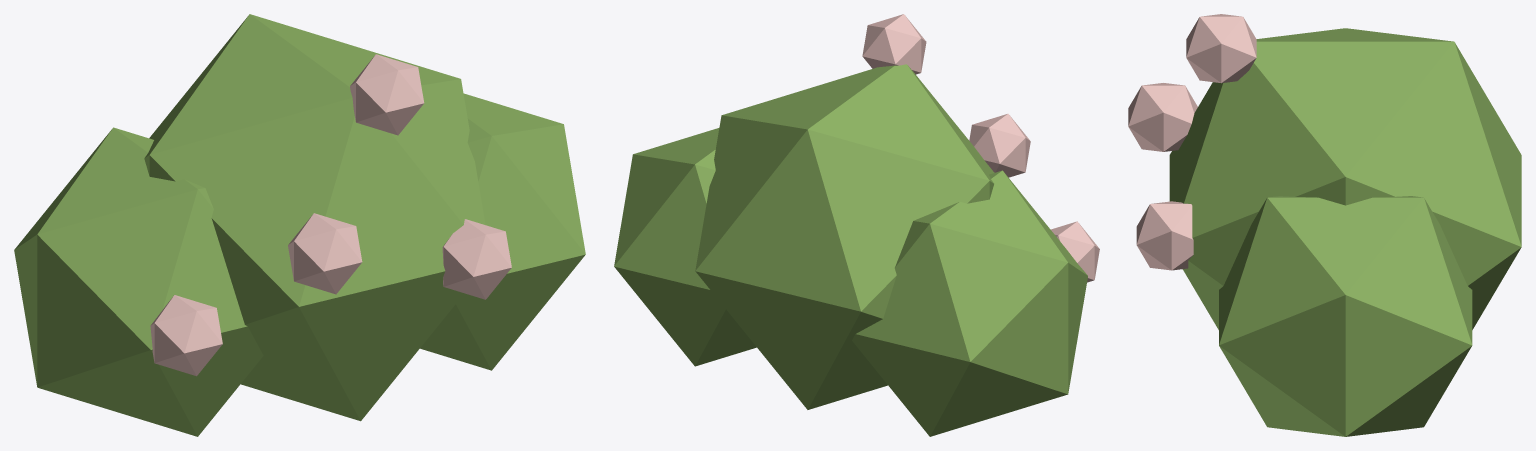
Rendered from bush.glb.
3 renders of one model, left to right at view 1: azimuth 30°, elevation 25°; view 2: azimuth 150°, elevation 25°; view 3: azimuth 270°, elevation 25°, orthographic. The views are drawn at different scales.
Visible parts, largest first — view 1: B0; view 2: B0; view 3: B0.
Part boxes in pixels (left/top/right/bottom): B0: left=14, top=14, right=585, bottom=436; B0: left=614, top=14, right=1099, bottom=436; B0: left=1128, top=14, right=1521, bottom=436.
Size of the model in its own units: 1.41 by 0.9404 by 0.9504.
